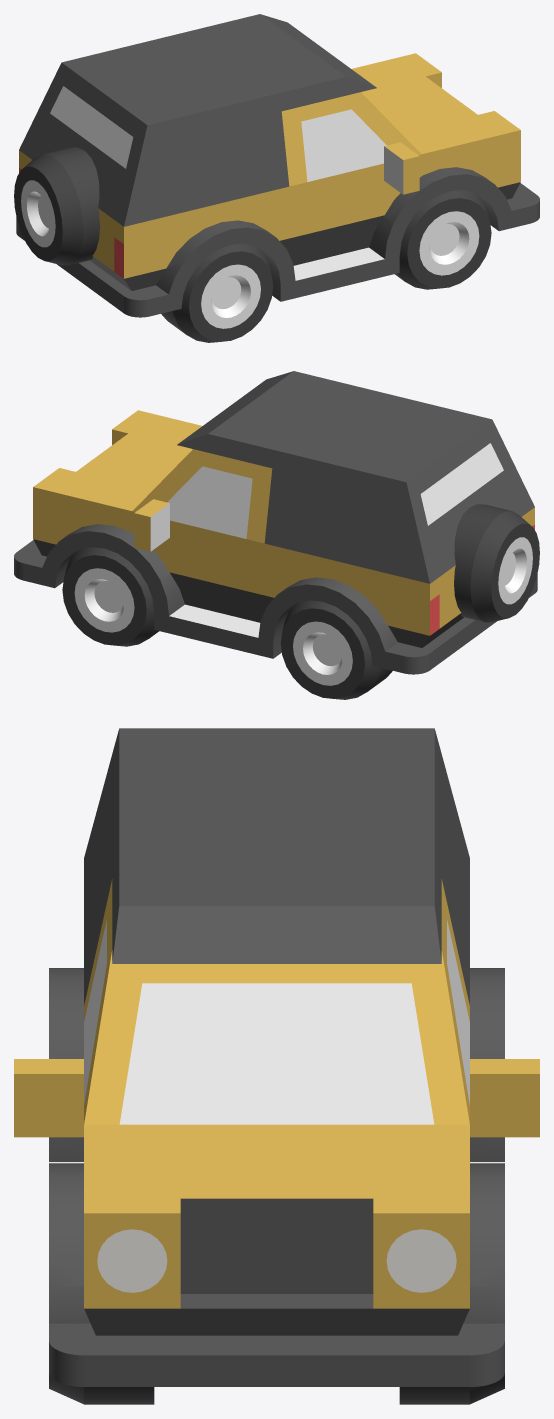
File: 17 SUV_2.FBX
3 renders of one model, top to bottom at view 1: azimuth 30°, elevation 25°; view 2: azimuth 150°, elevation 25°; view 3: azimuth 270°, elevation 25°, orthographic. The views are drawn at different scales.
Visible parts, largest first — view 1: body, wheel_back, wheel_backRight, wheel_frontRight; view 2: body, wheel_back, wheel_backLeft, wheel_frontLeft; view 3: body, wheel_frontLeft, wheel_frontRight.
Boxes of the visible parts, x1,y1,x2,y2 form: body: (16, 14, 539, 317); wheel_back: (14, 147, 99, 265); wheel_backRight: (161, 243, 273, 342); wheel_frontRight: (394, 190, 491, 289); body: (14, 371, 537, 674); wheel_back: (454, 504, 539, 622); wheel_backLeft: (280, 600, 392, 699); wheel_frontLeft: (62, 547, 159, 646); body: (14, 728, 539, 1386); wheel_frontLeft: (399, 1373, 504, 1404); wheel_frontRight: (49, 1373, 154, 1404).
Size of the model in its own units: 675 by 325 by 375.
